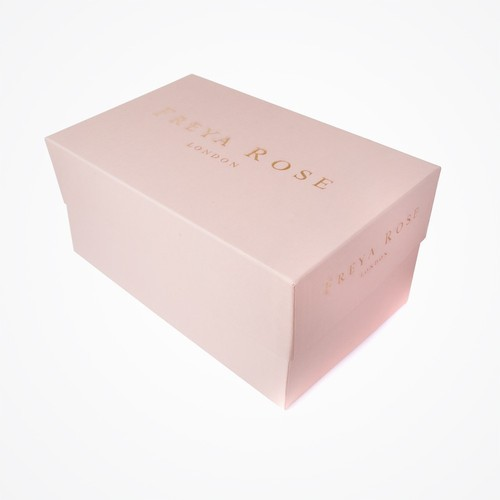Rec_Paper: (21, 47, 438, 413)
